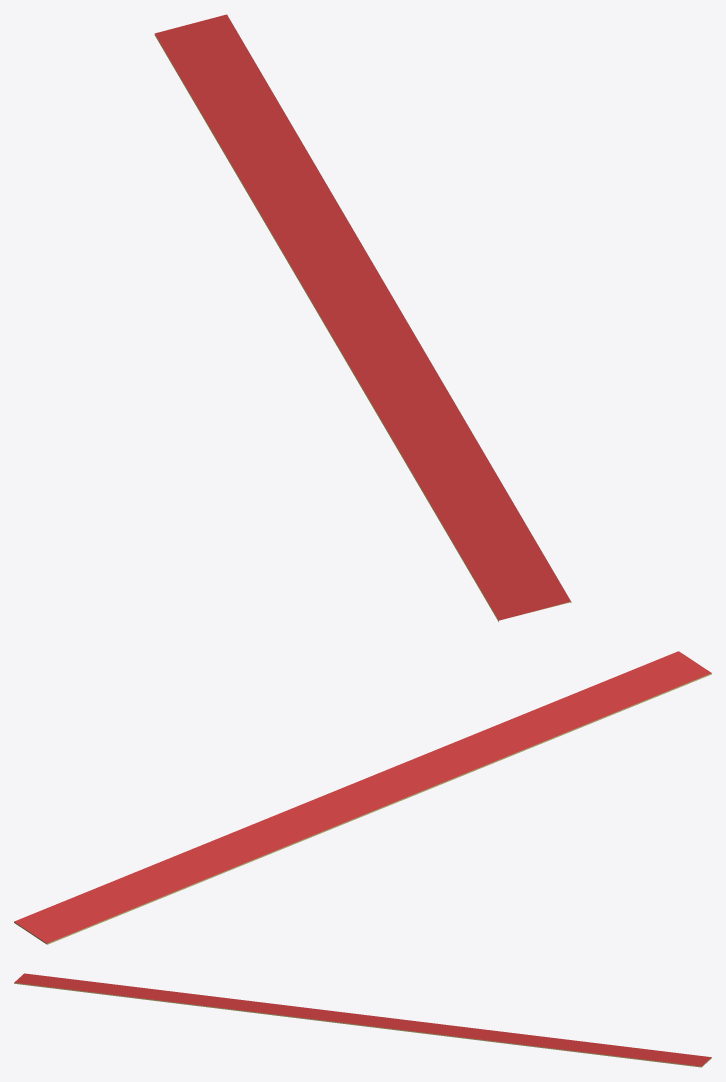
3 views of the same model, one above another, from view 1: azimuth 30°, elevation 25°; view 2: azimuth 150°, elevation 25°; view 3: azimuth 270°, elevation 25° (orthographic). The views are drawn at different scales.
Size of the model in its own units: 21.55 by 64.28 by 0.685.
